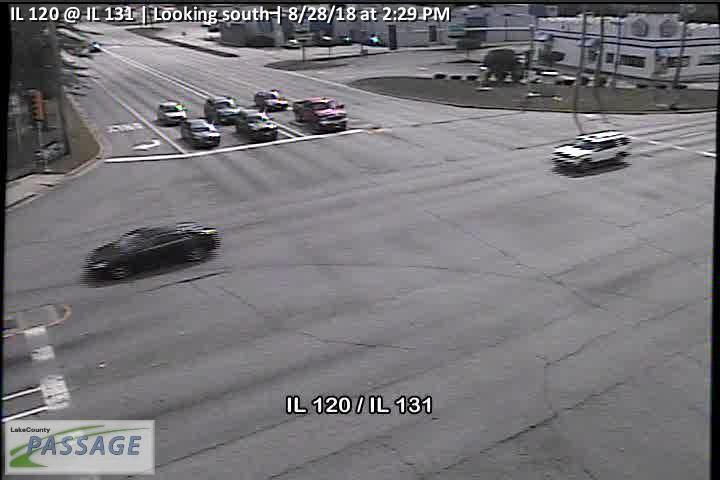SUV: (237, 112, 279, 142), (180, 119, 221, 147), (204, 96, 243, 124), (158, 101, 186, 124)
Sedan: (86, 221, 221, 283), (255, 88, 289, 111)
Truck: (551, 128, 633, 174), (291, 94, 349, 132)
